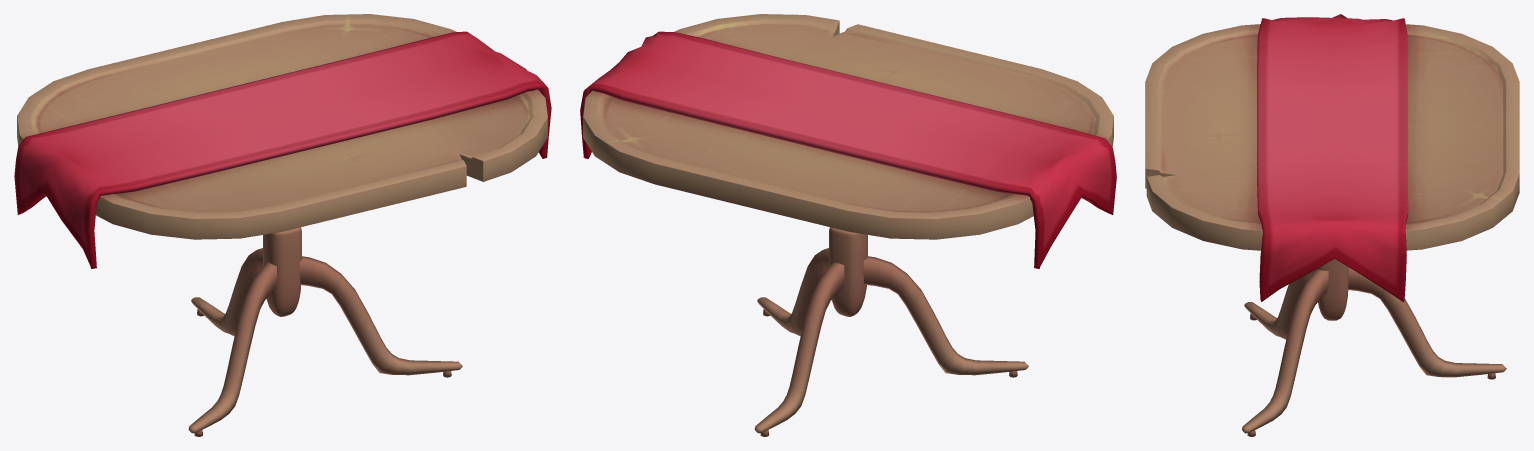
File: Finish Table.fbx
The picture shows the model from 3 angles, left to right: view 1: azimuth 30°, elevation 25°; view 2: azimuth 150°, elevation 25°; view 3: azimuth 270°, elevation 25°; orthographic projection. The views are drawn at different scales.
Visible parts, largest first — view 1: Finish Table; view 2: Finish Table; view 3: Finish Table.
Part boxes in pixels (x1,y1,x2,y2): Finish Table: (14, 14, 551, 436); Finish Table: (580, 14, 1116, 436); Finish Table: (1145, 14, 1519, 436).
Size of the model in its own units: 141 by 76.24 by 100.
